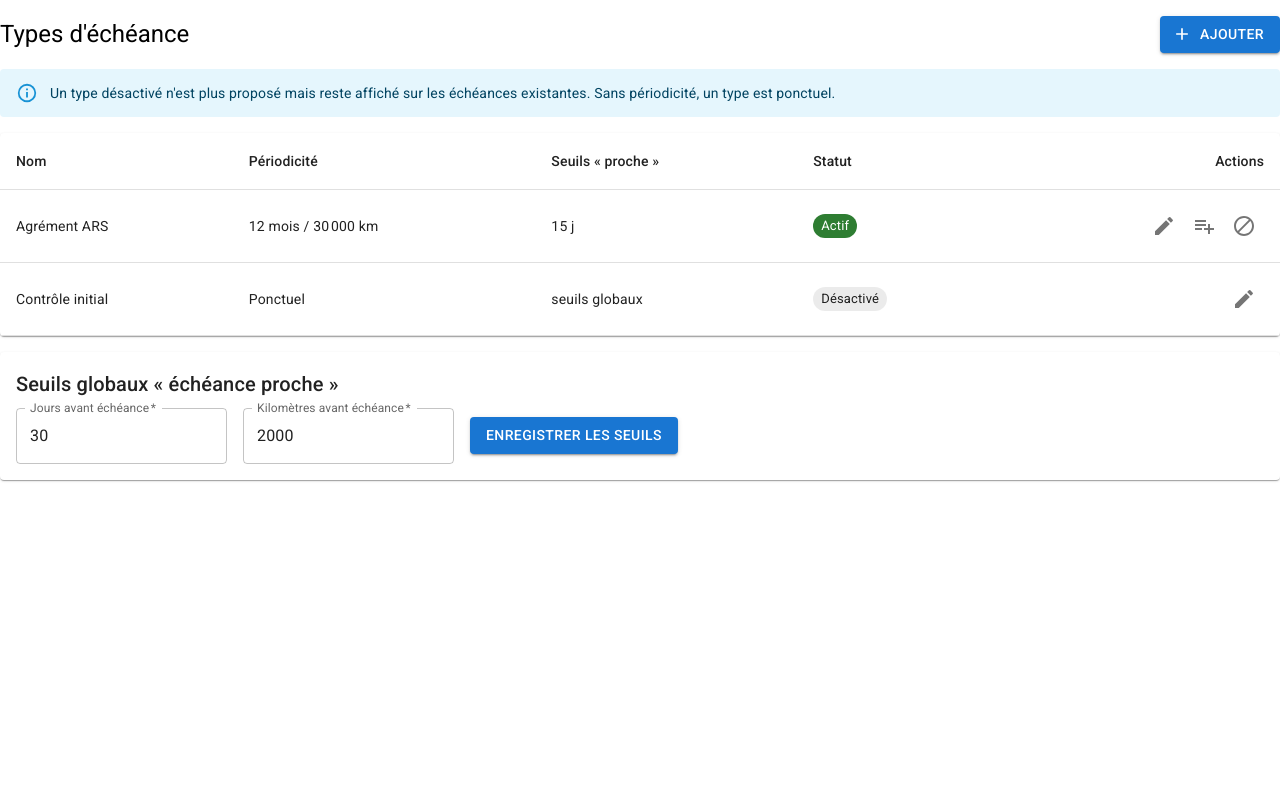
it: DeadlineTypesPage : ajout à des véhicules › propose l'ajout aux véhicules après la création d'un type périodique et affiche le bilan
The image size is (1280, 800).
Expected: the text "Agrément ARS" is shown, [0,189,233,262]
Click the button "Ajouter" at [1220, 34], box [1160,16,1279,52]
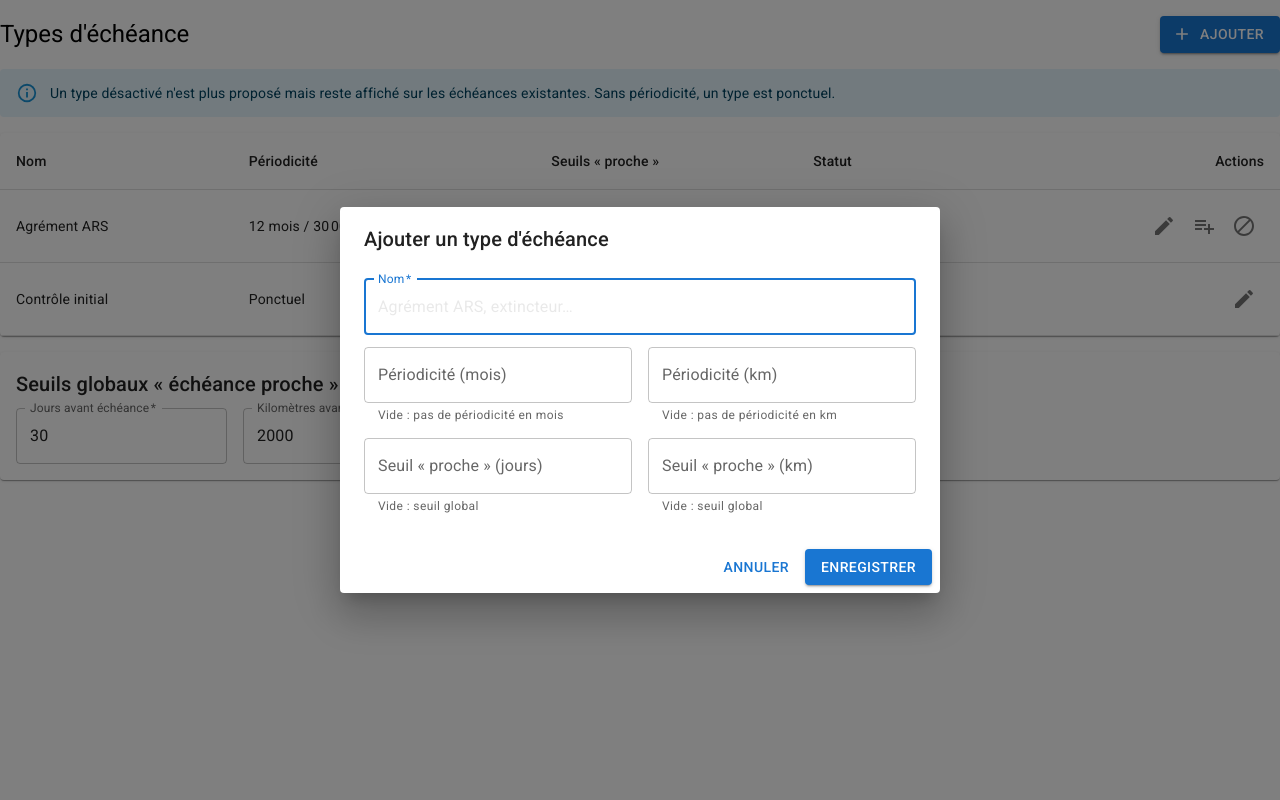
Type "Agrément ARS" into the field labelled "Nom *" at [640, 307], box [364,279,916,335]
Click the button "Enregistrer" at [868, 567], box [805,549,932,585]
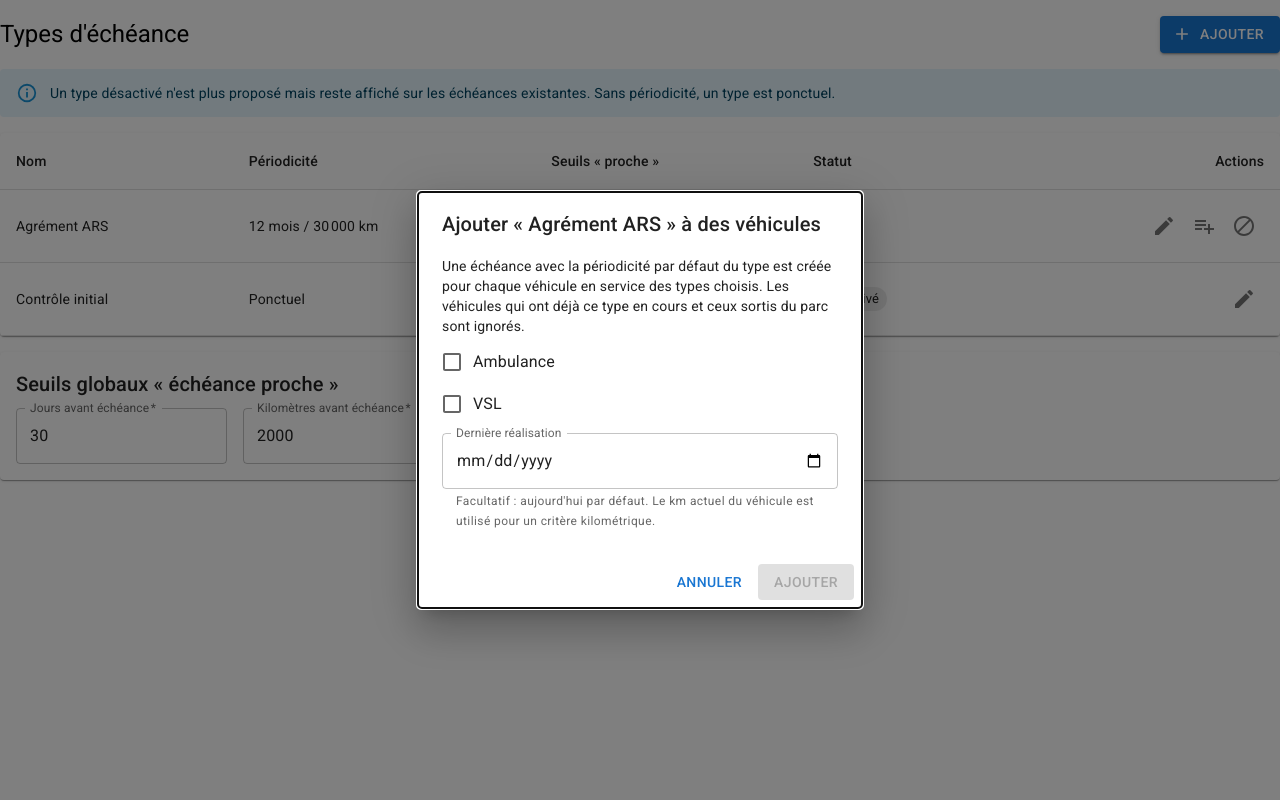
Expected: the heading "Ajouter « Agrément ARS » à des véhicules" is shown, [442,212,821,236]
Expected: the button "Ajouter" is disabled, [758,564,854,600]
Click the checkbox labelled "Ambulance" at [497, 362], box [440,350,555,374]
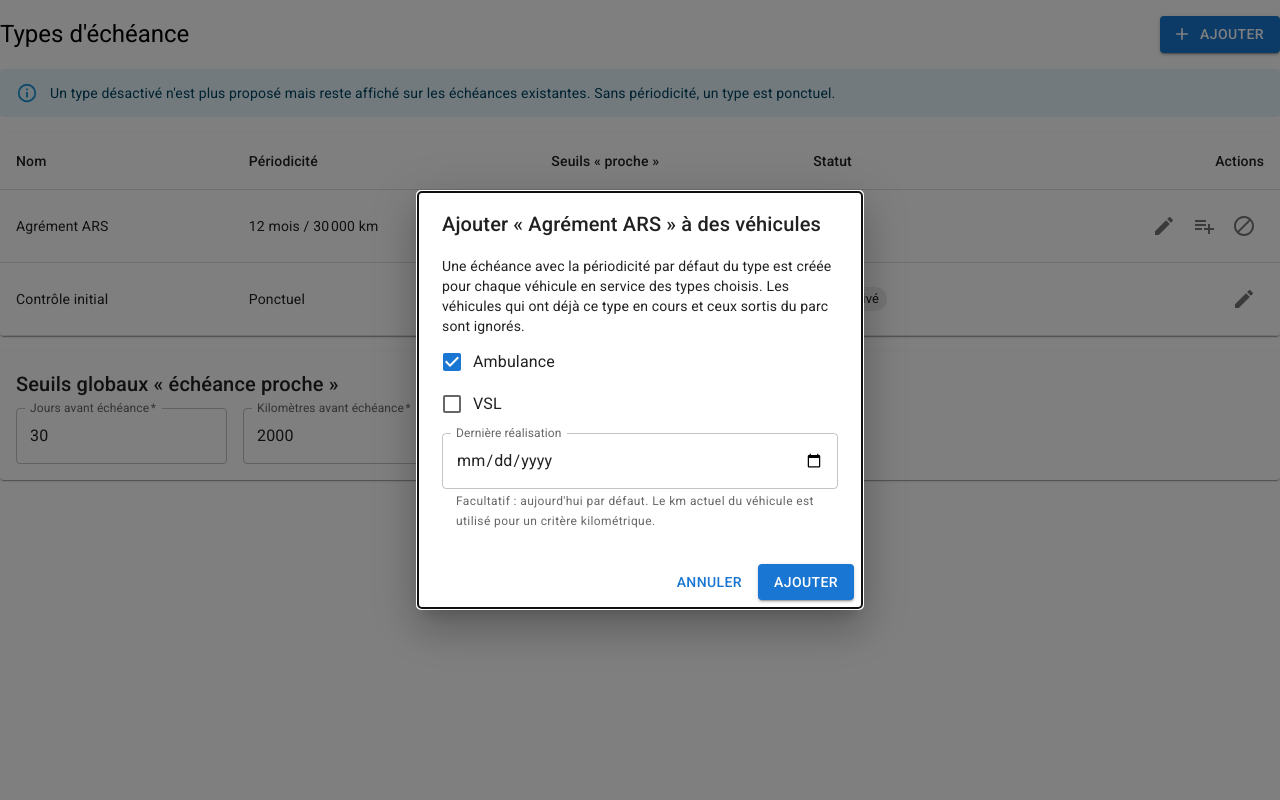
Click the checkbox labelled "VSL" at [471, 404], box [440,392,502,416]
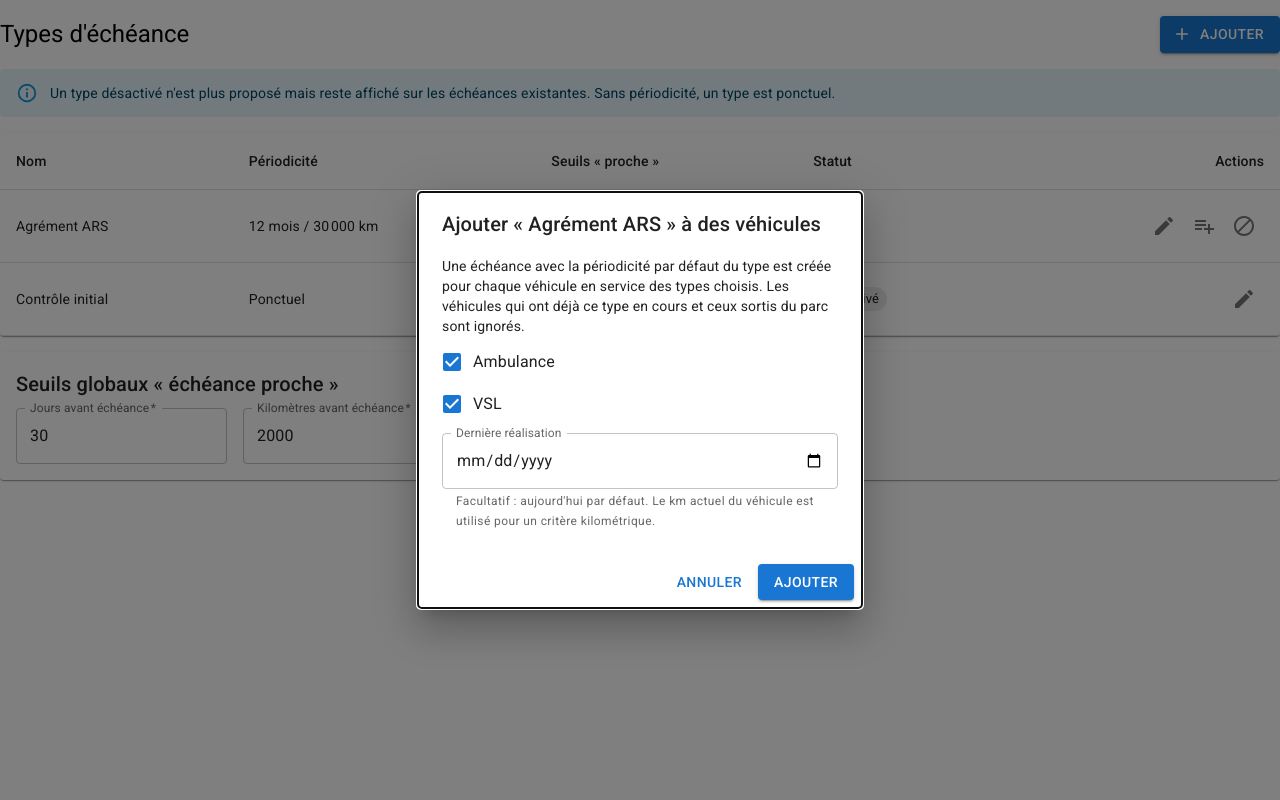
Type "2026-09-01" into the date field labelled "Dernière réalisation" at [640, 461], box [442,433,838,489]
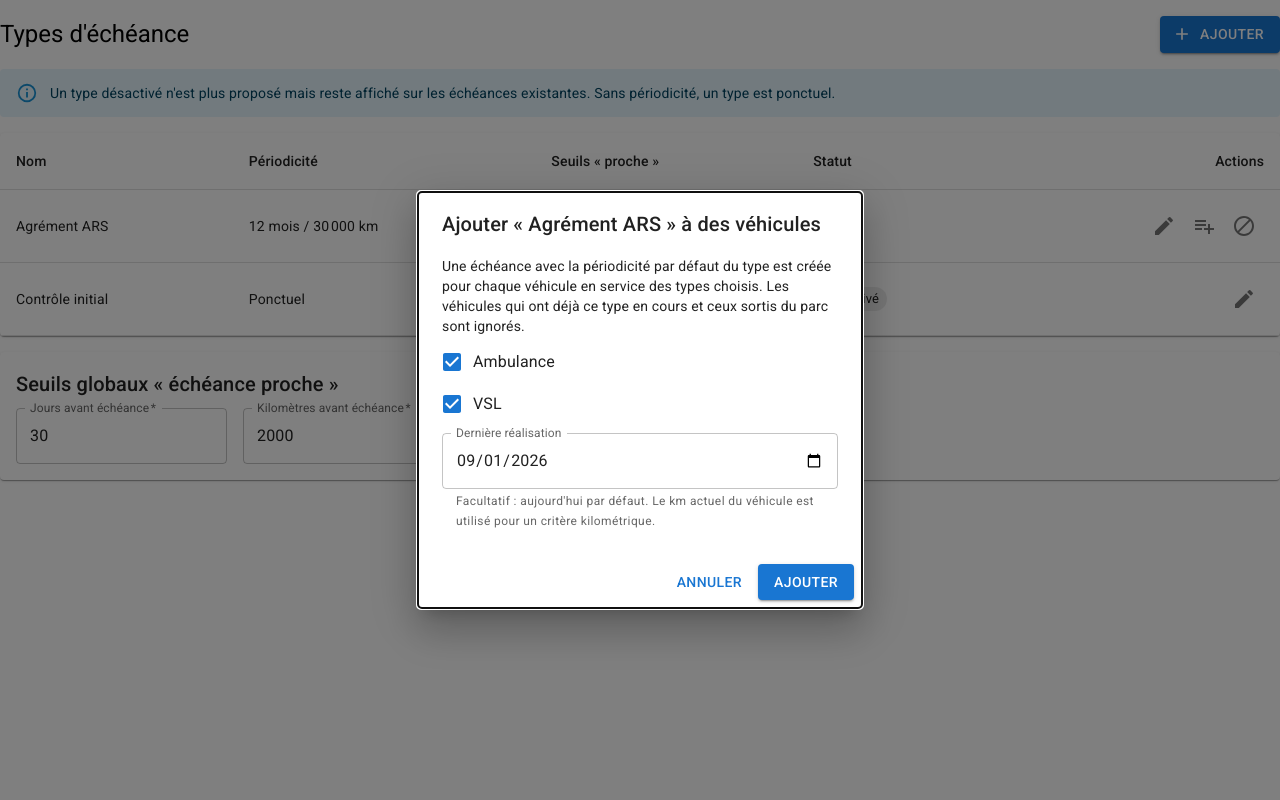
Click the button "Ajouter" at [806, 582], box [758,564,854,600]
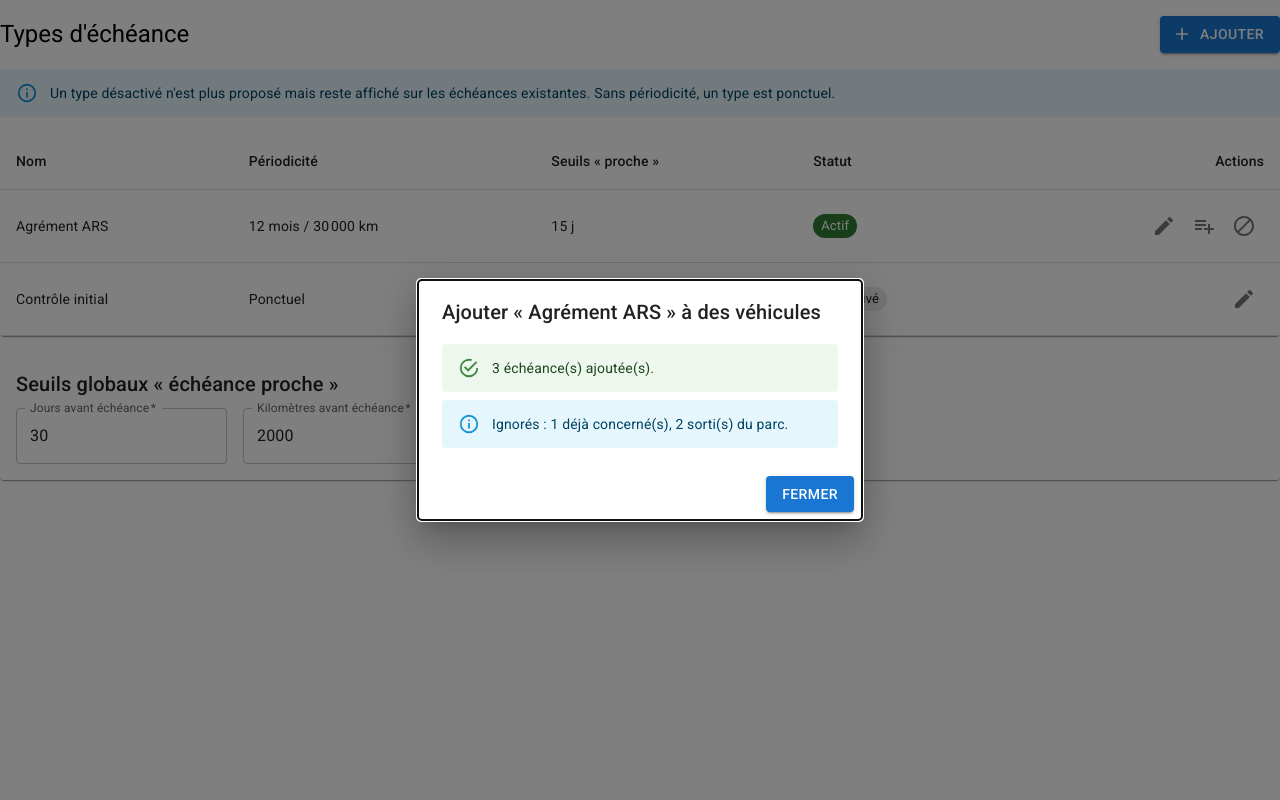
Expected: the text "3 échéance(s) ajoutée(s)." is shown, [492,360,654,376]
Expected: the text "Ignorés : 1 déjà concerné(s), 2 sorti(s) du parc." is shown, [492,416,788,432]
